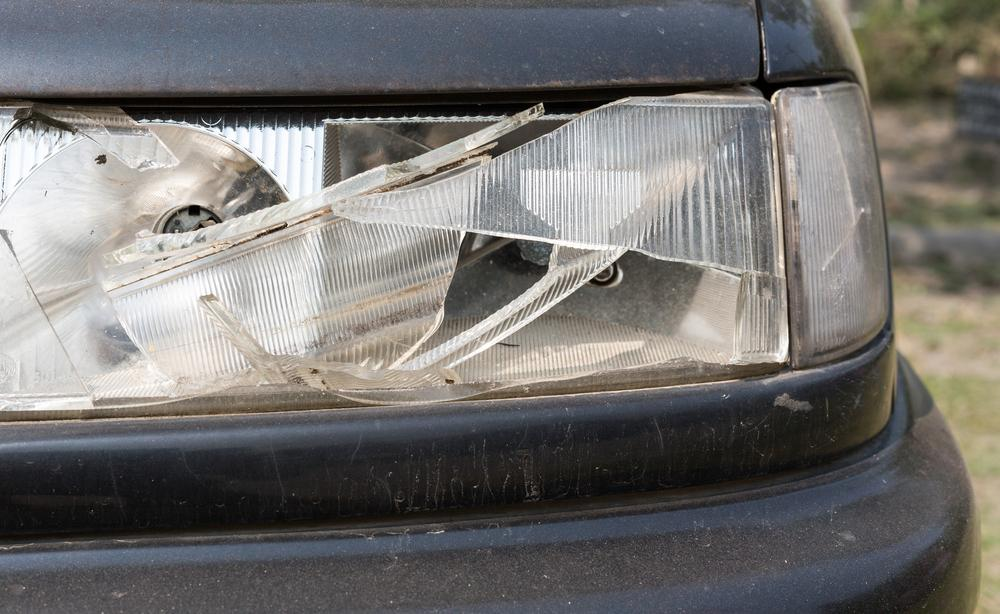lamp broken: (0, 87, 793, 419)
